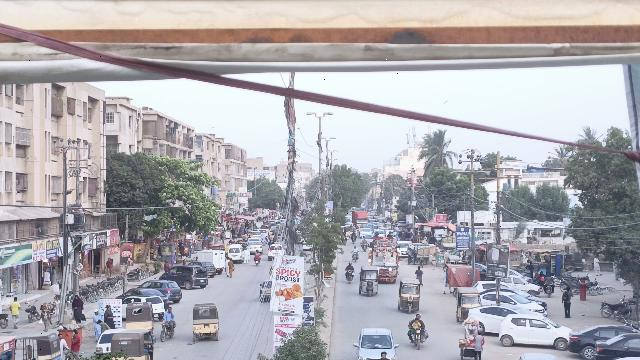Bike: (158, 320, 179, 345), (411, 326, 428, 350), (345, 269, 355, 286)
Bus: (368, 236, 400, 285)
Car: (498, 312, 572, 350), (565, 321, 628, 360), (467, 303, 530, 336), (352, 326, 399, 360), (594, 333, 640, 360), (258, 279, 272, 301)
Cart: (458, 316, 485, 360)
Person: (71, 293, 88, 323), (38, 301, 53, 331), (8, 295, 22, 327), (561, 284, 573, 319), (471, 329, 484, 360), (90, 307, 101, 342), (103, 302, 116, 328), (70, 330, 82, 357), (163, 305, 174, 330), (411, 310, 426, 326), (414, 266, 424, 284), (345, 261, 354, 271), (413, 317, 421, 326)
Rickshaw: (109, 330, 155, 360), (191, 301, 220, 343), (395, 279, 421, 314), (455, 287, 481, 321), (357, 266, 379, 297)
Truck: (196, 248, 227, 275)
